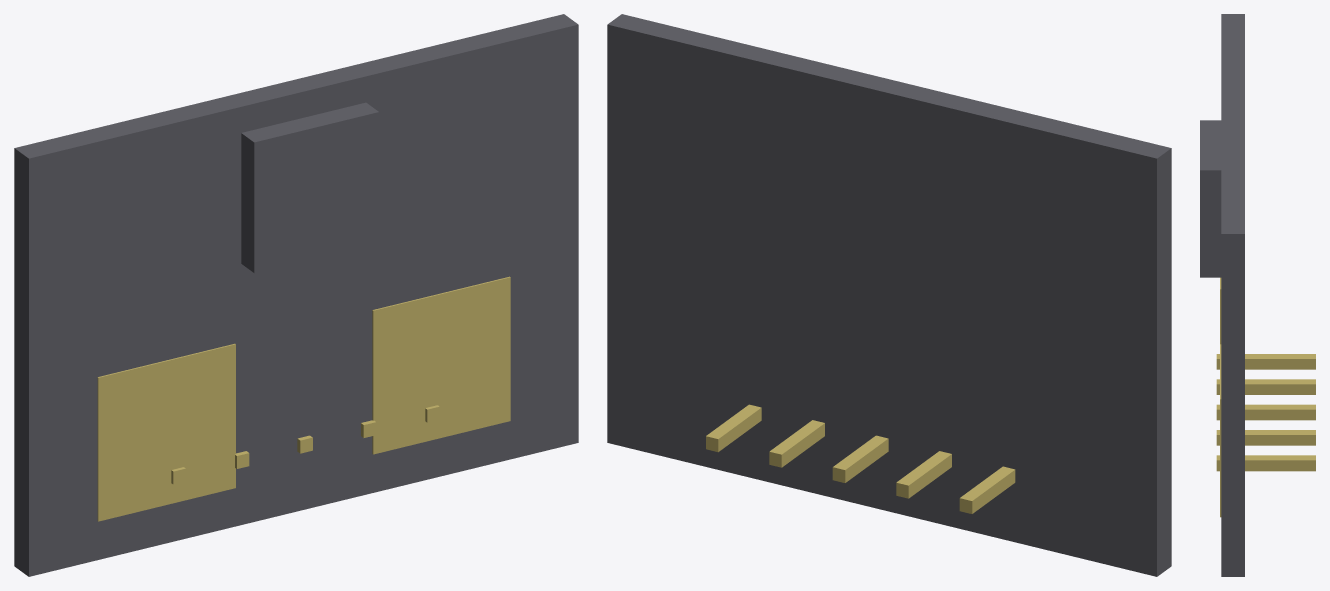
3 renders of one model, left to right at view 1: azimuth 30°, elevation 25°; view 2: azimuth 150°, elevation 25°; view 3: azimuth 270°, elevation 25°, orthographic. The views are drawn at different scales.
Parts seen in each view (by area): view 1: extra, pins; view 2: extra, pins; view 3: extra, pins.
Boxes of the visible parts, x1,y1,x2,y2 form: extra: [14, 14, 578, 576]; pins: [97, 276, 510, 521]; extra: [607, 14, 1171, 576]; pins: [706, 404, 1015, 513]; extra: [1200, 14, 1244, 576]; pins: [1216, 277, 1315, 517].
Bounding box in the file's own units: 22 × 16 × 4.9.
